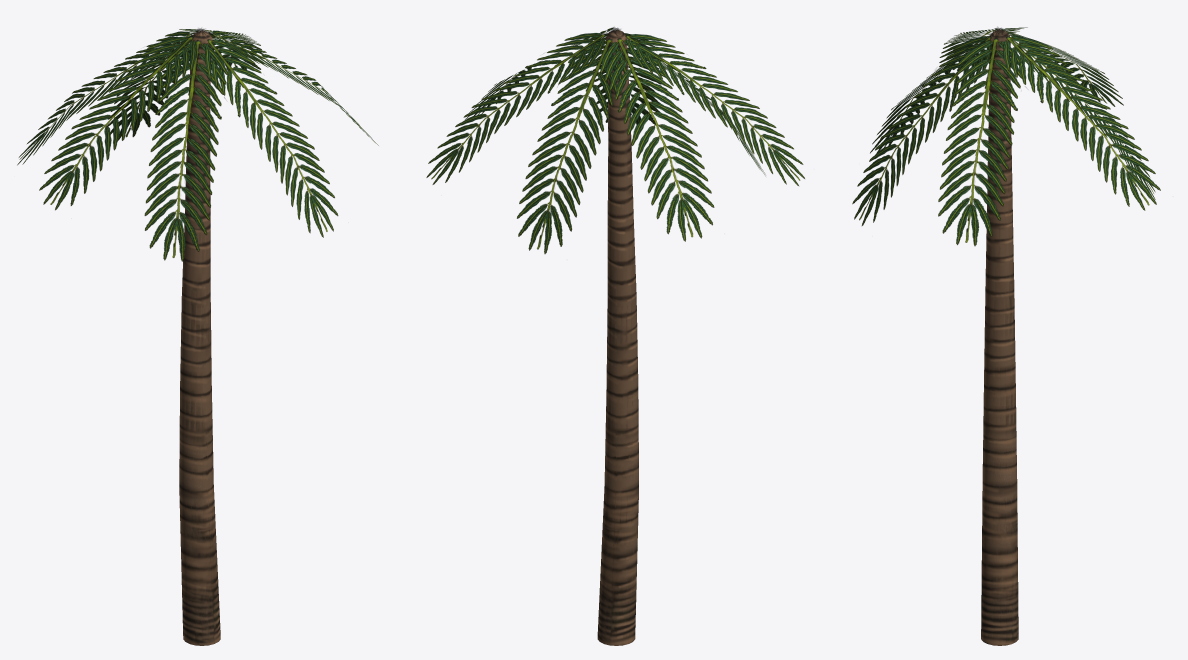
File: palm.glb
3 views of the same model, side by side, from view 1: azimuth 30°, elevation 25°; view 2: azimuth 150°, elevation 25°; view 3: azimuth 270°, elevation 25° (orthographic).
Parts seen in each view (by area): view 1: Object_4; view 2: Object_4; view 3: Object_4.
Part boxes in pixels (x1=…): Object_4: x1=17, y1=28, x2=378, y2=645; Object_4: x1=426, y1=27, x2=804, y2=645; Object_4: x1=852, y1=27, x2=1160, y2=645.
Size of the model in its own units: 32.55 by 56 by 27.54.
Materials: 1 (1 with a texture image).
